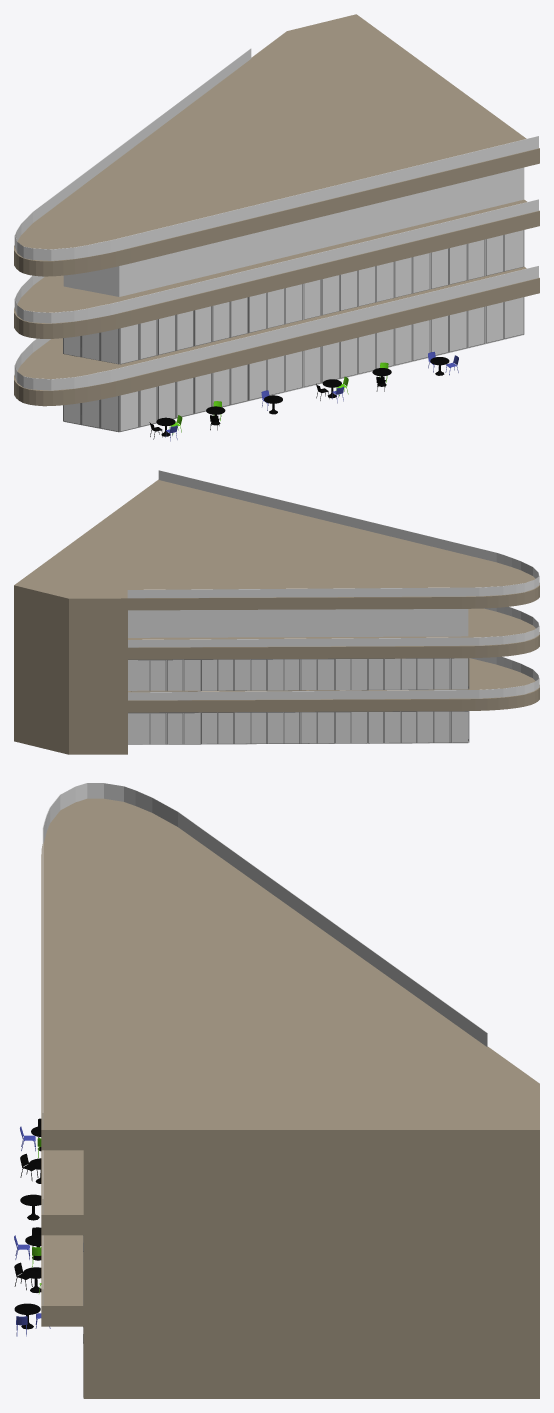
The picture shows the model from 3 angles, top to bottom: view 1: azimuth 30°, elevation 25°; view 2: azimuth 150°, elevation 25°; view 3: azimuth 270°, elevation 25°; orthographic projection. The views are drawn at different scales.
Parts seen in each view (by area): view 1: Cube.395; view 2: Cube.395; view 3: Cube.395.
Part boxes in pixels (left/top/right/bottom): Cube.395: left=14, top=14, right=539, bottom=432; Cube.395: left=14, top=470, right=539, bottom=754; Cube.395: left=41, top=783, right=539, bottom=1398.
Size of what is drawn, in the model's own units: 3282 by 1315 by 2196.
